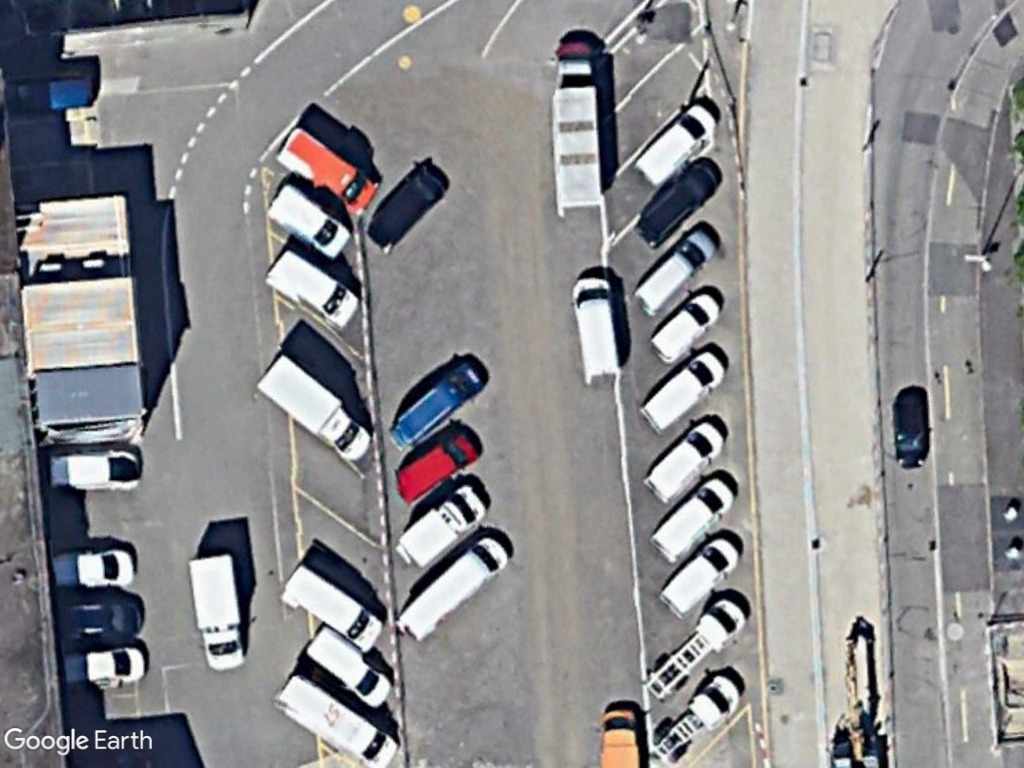truck: (251, 348, 373, 469), (182, 548, 253, 674), (390, 483, 488, 572), (550, 52, 602, 219)
van: (270, 672, 399, 768), (394, 535, 506, 645), (276, 562, 384, 653), (385, 361, 493, 449), (259, 245, 363, 331), (278, 128, 378, 217), (303, 621, 394, 710), (638, 350, 729, 438), (388, 425, 482, 510), (631, 225, 718, 316), (633, 100, 717, 188), (653, 537, 741, 619), (262, 179, 354, 257), (653, 474, 737, 559), (644, 420, 728, 501), (647, 287, 723, 367), (570, 272, 625, 381), (57, 642, 149, 692), (47, 543, 137, 594)
